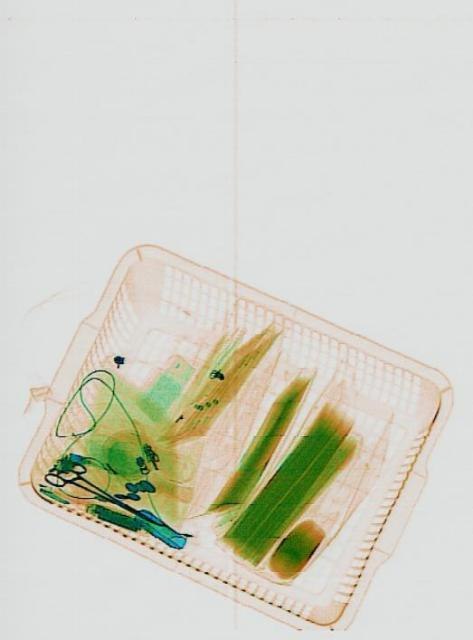Scissors: (39, 446, 168, 542)
